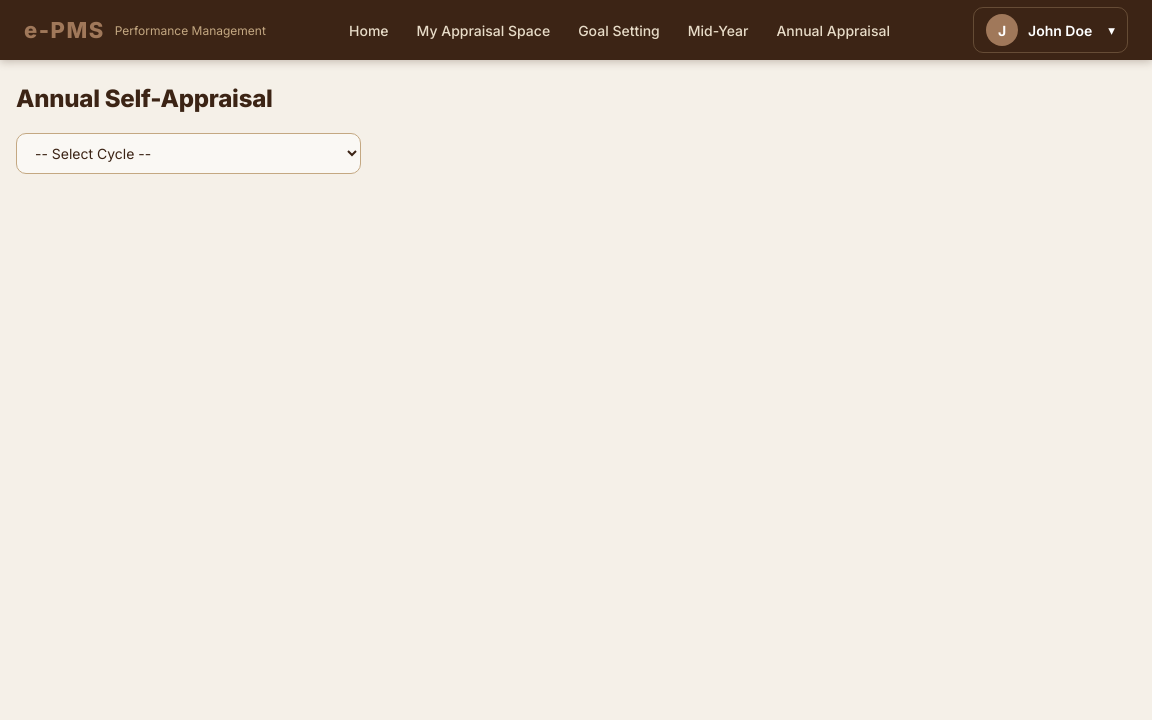
Self Appraisal Page › shows Save Draft and Submit buttons after cycle selection
Select "FY 2024-25 (ANNUAL APPRAISAL · ACTIVE)" in the dropdown at (188, 154), box [16, 133, 361, 174]
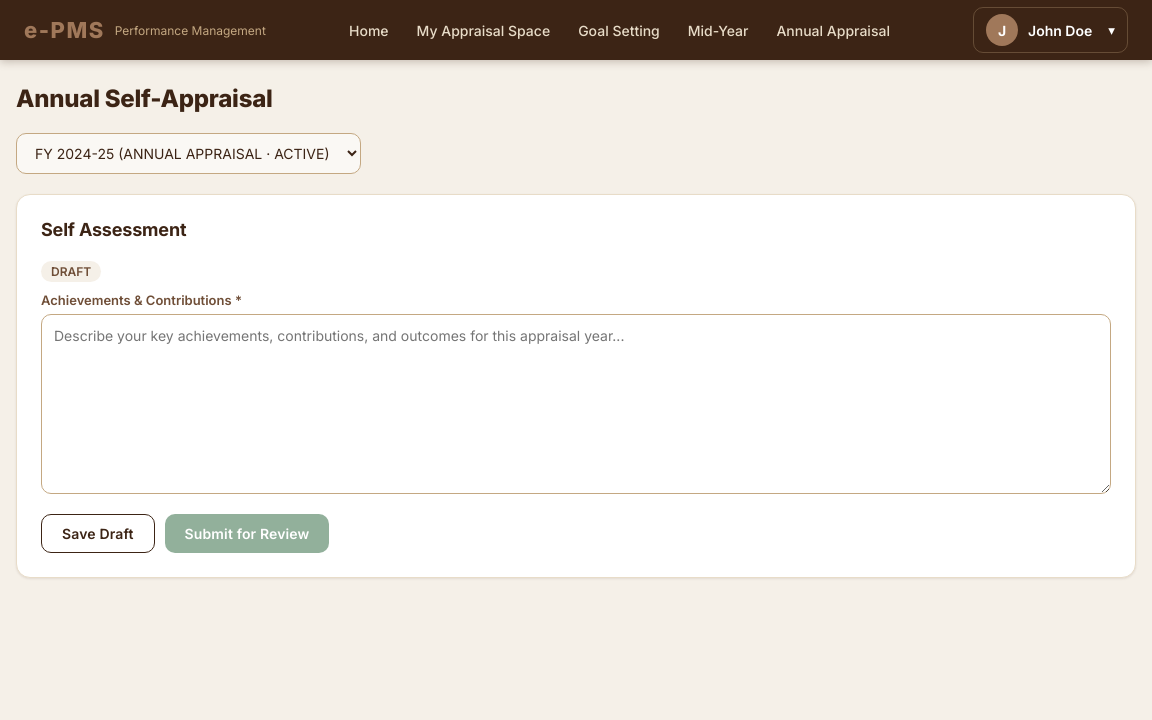
Now the button "Save Draft" is shown, box [41, 514, 154, 553]
Now the button "Submit for Review" is shown, box [164, 514, 329, 553]
